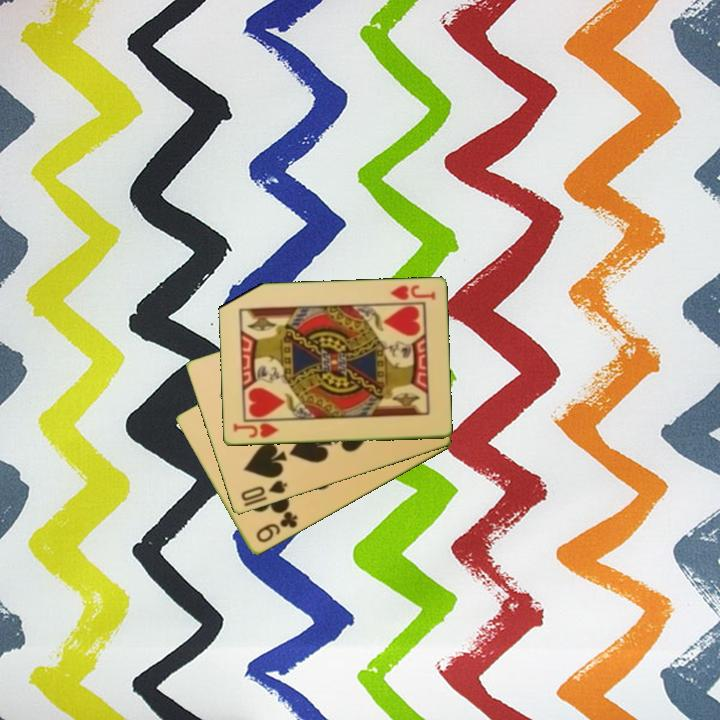10s: (237, 477, 290, 504)
9c: (252, 508, 301, 546)
Jh: (229, 420, 281, 441), (387, 282, 438, 303)
